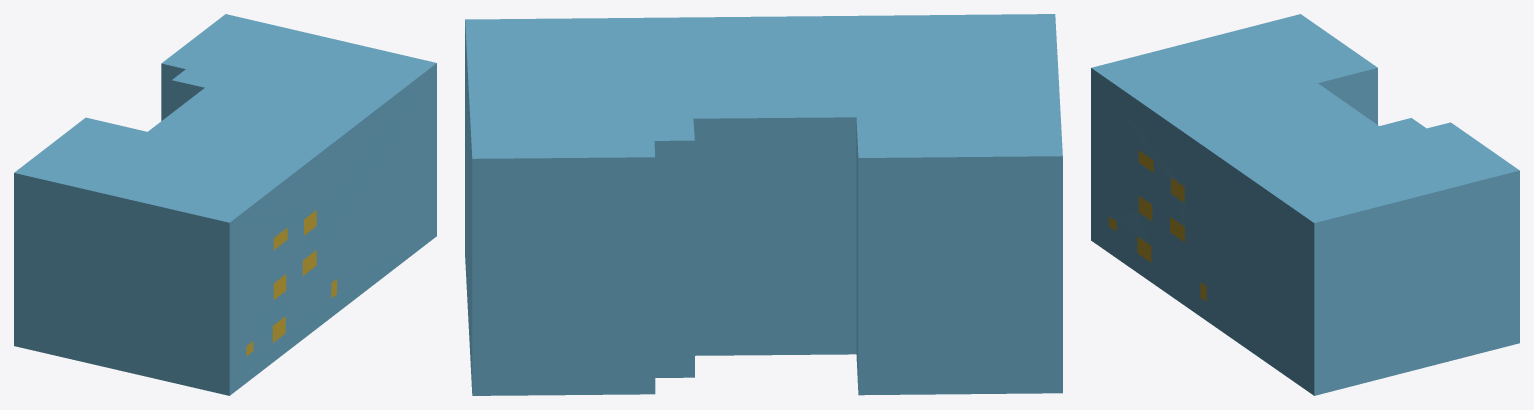
The model's file is bldg_f9f451d9-168b-4aca-918e-4d3d006c1f00.obj.
The picture shows the model from 3 angles, left to right: view 1: azimuth 30°, elevation 25°; view 2: azimuth 150°, elevation 25°; view 3: azimuth 270°, elevation 25°; orthographic projection. The views are drawn at different scales.
Size of the model in its own units: 27.75 by 10.69 by 24.03.
